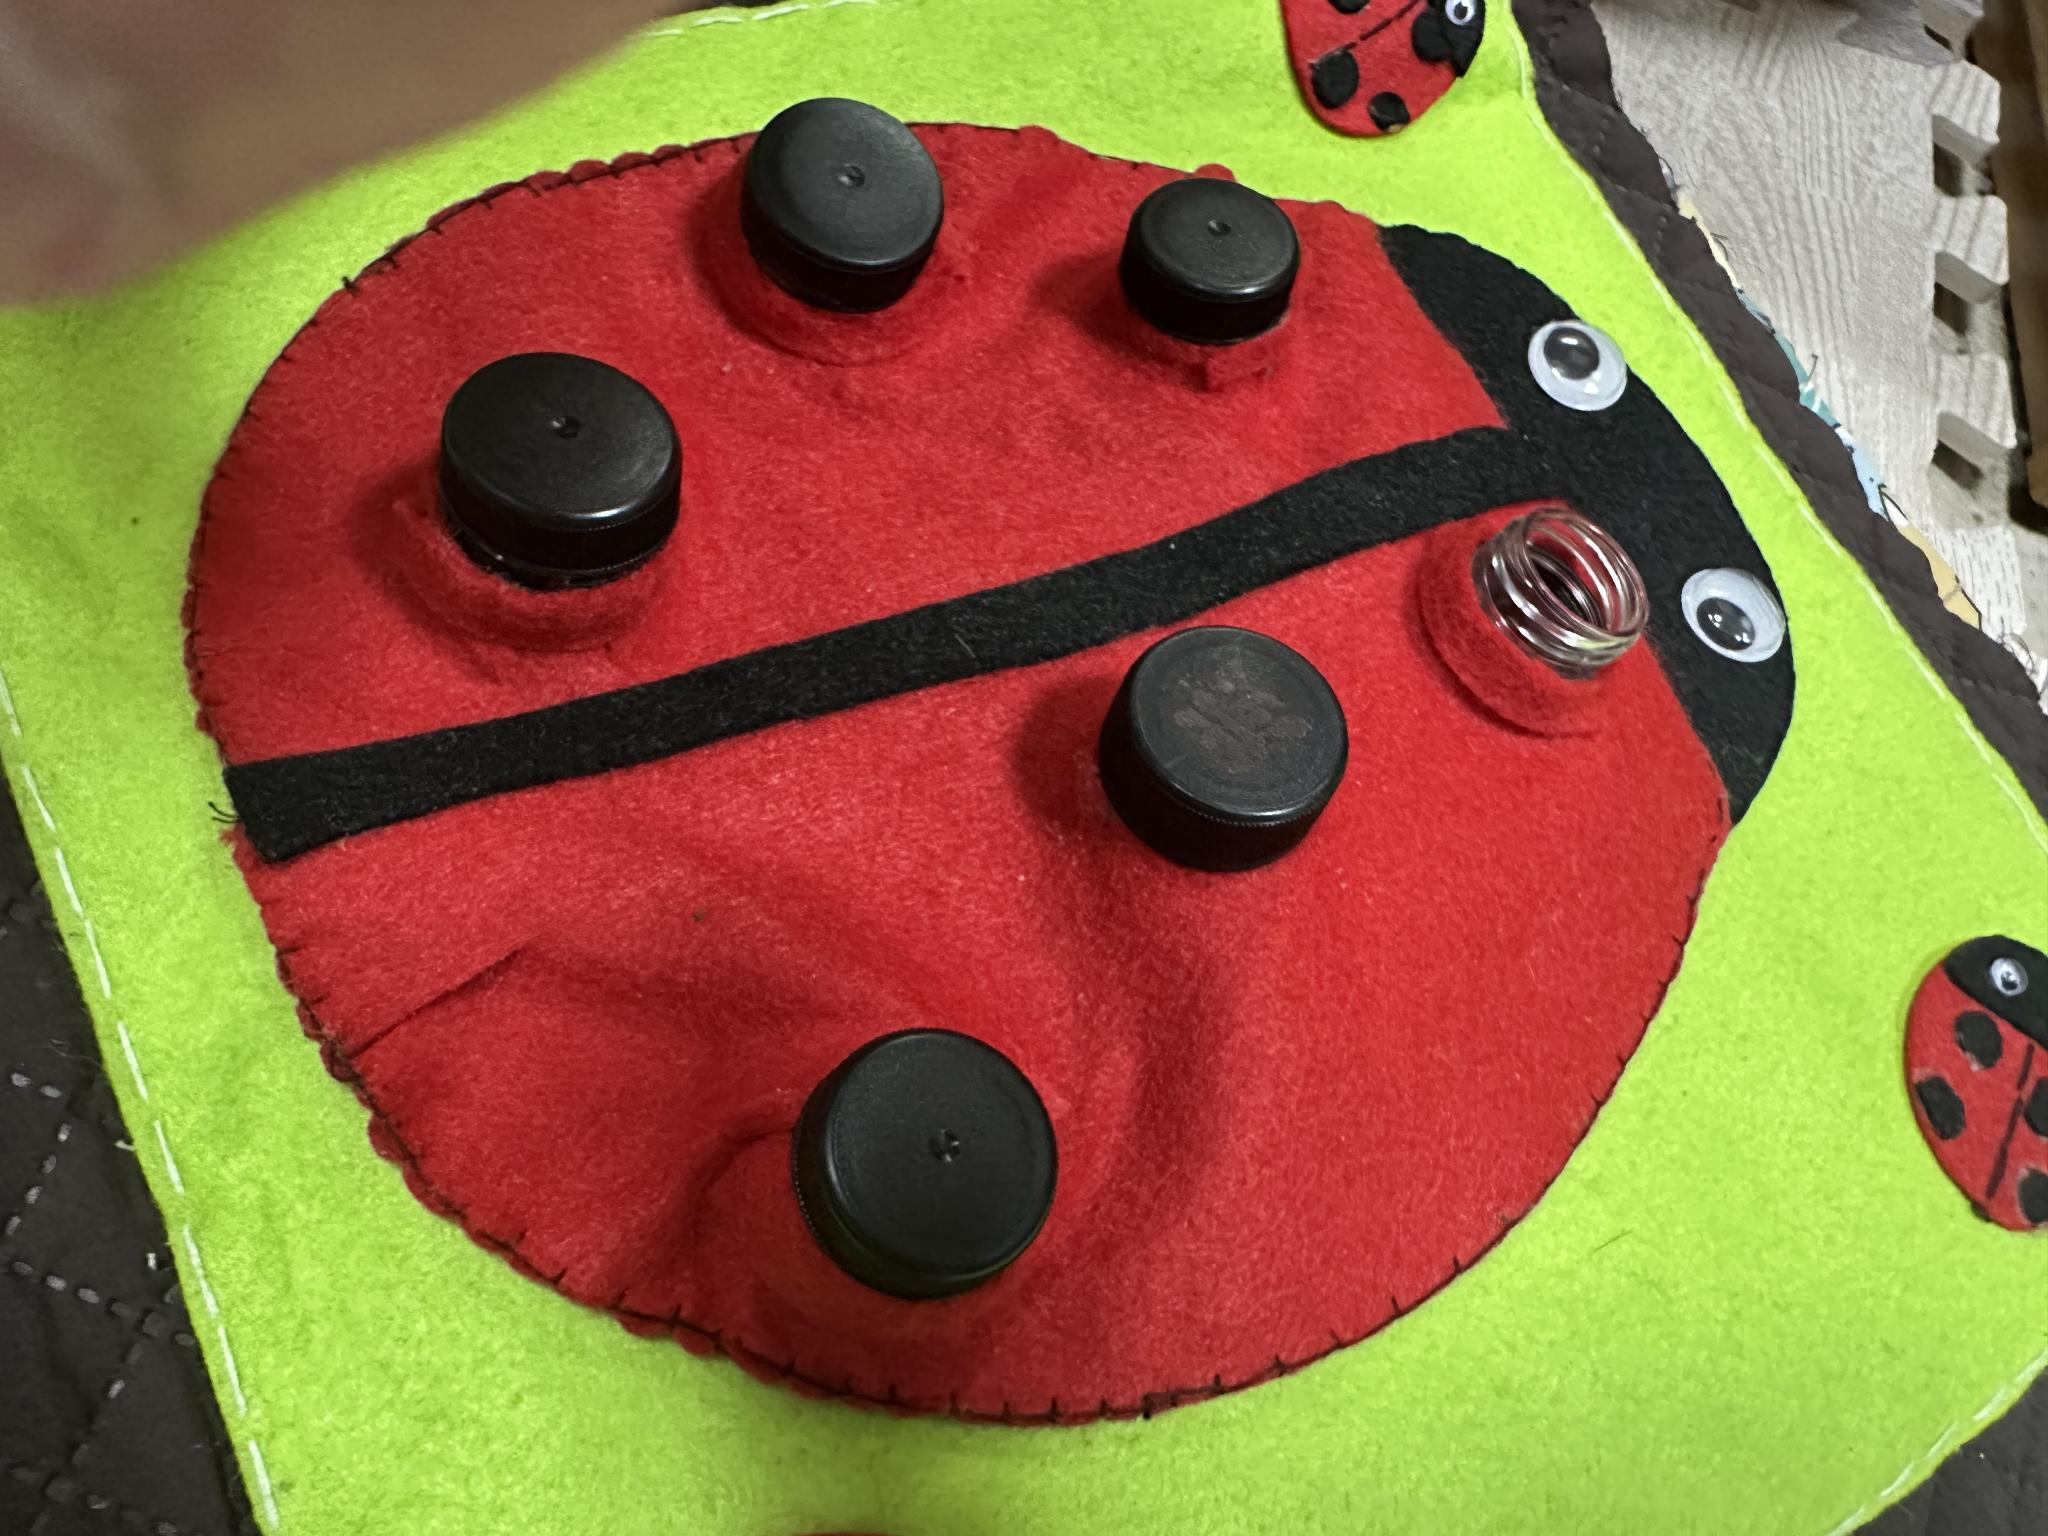cap_ok: (747, 1020, 1126, 1334), (1076, 594, 1380, 928), (414, 339, 719, 657), (726, 82, 964, 358), (1100, 145, 1314, 413)
